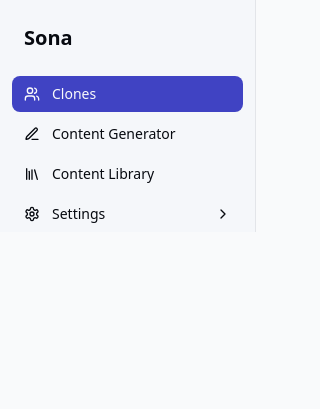
Test: Sidebar › should show settings sub-navigation when Settings is clicked
The image size is (320, 409).
expect the link "providers" is not shown: met
expect the link "methodology" is not shown: met
Note: Click Settings to expand
Click the button "Settings" at (128, 214), box x1=12 y1=196 x2=243 y2=232
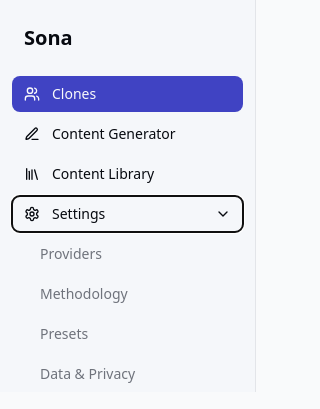
expect the link "Providers" is shown: met, box x1=40 y1=244 x2=102 y2=263
expect the link "Methodology" is shown: met, box x1=40 y1=284 x2=128 y2=303
